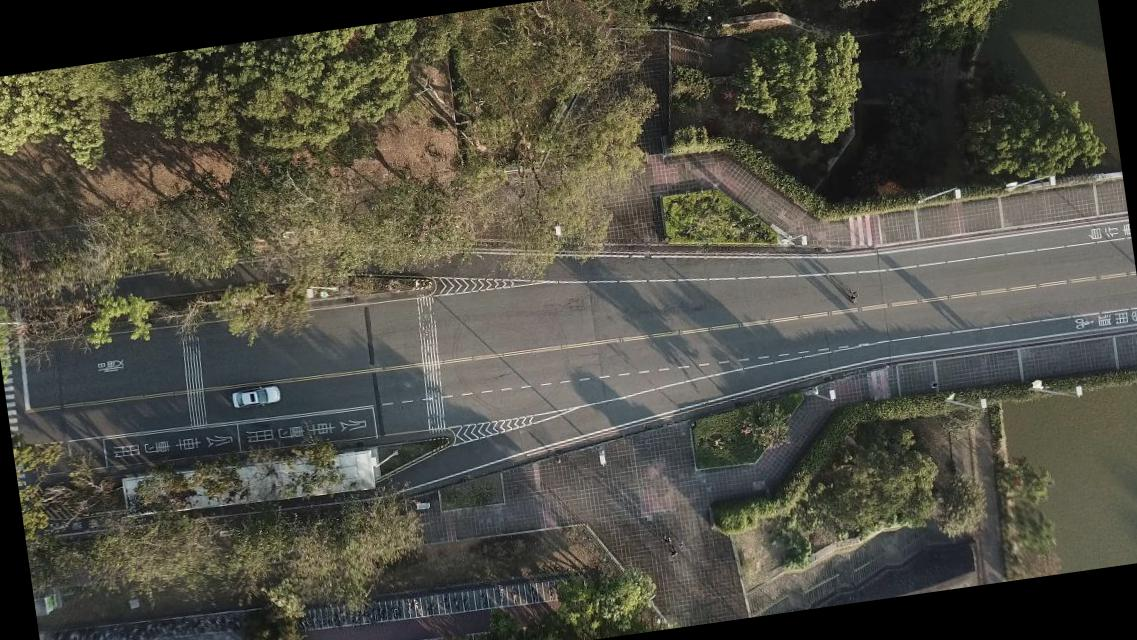vehicle: (230, 384, 280, 410)
